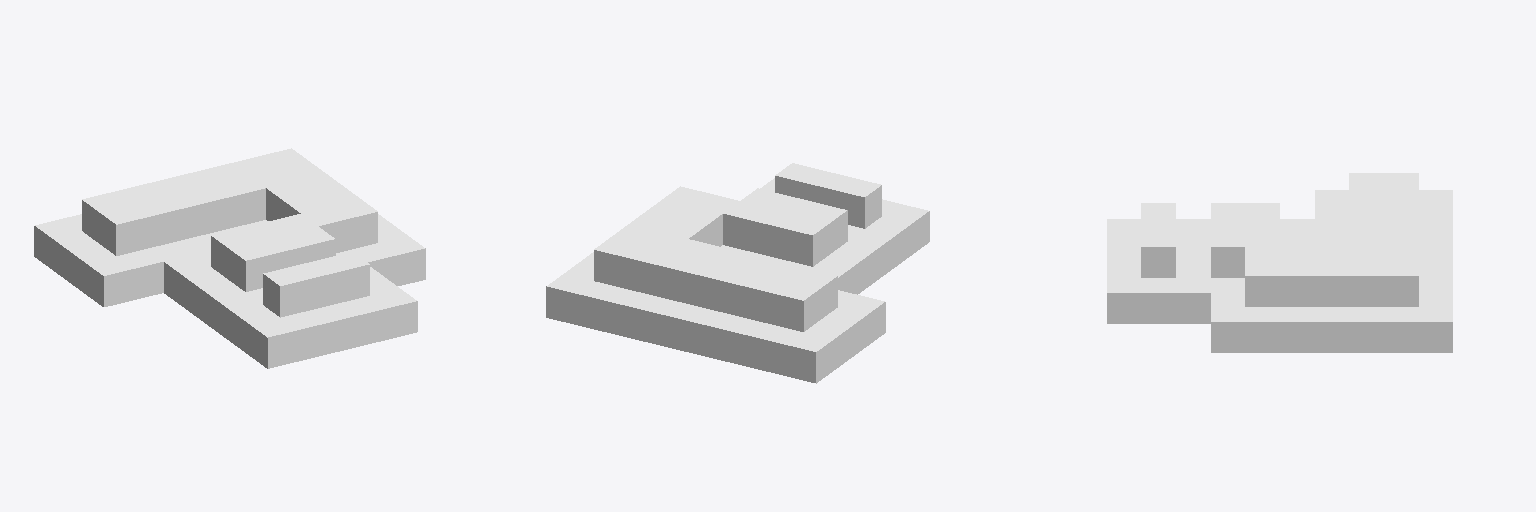
The model's file is buttonShape_help.obj.
The picture shows the model from 3 angles: view 1: azimuth 30°, elevation 25°; view 2: azimuth 150°, elevation 25°; view 3: azimuth 270°, elevation 25°; orthographic projection.
Bounding box in the file's own units: 9 × 2 × 10.